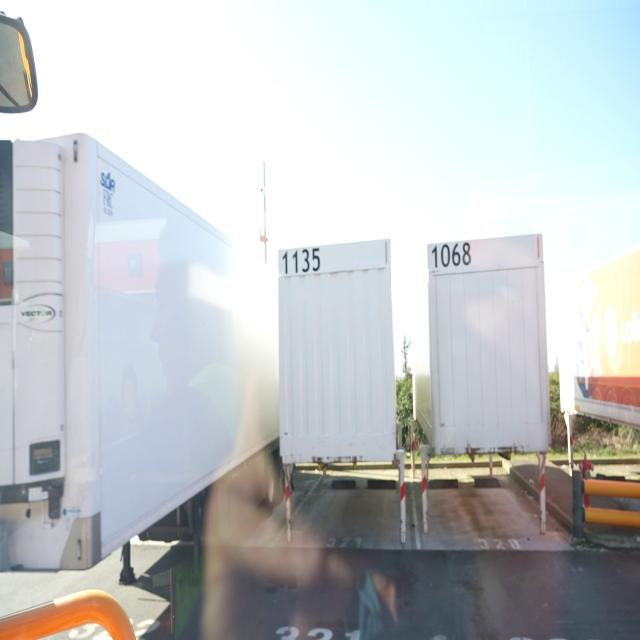Code: (278, 244, 320, 279), (430, 238, 473, 271)
